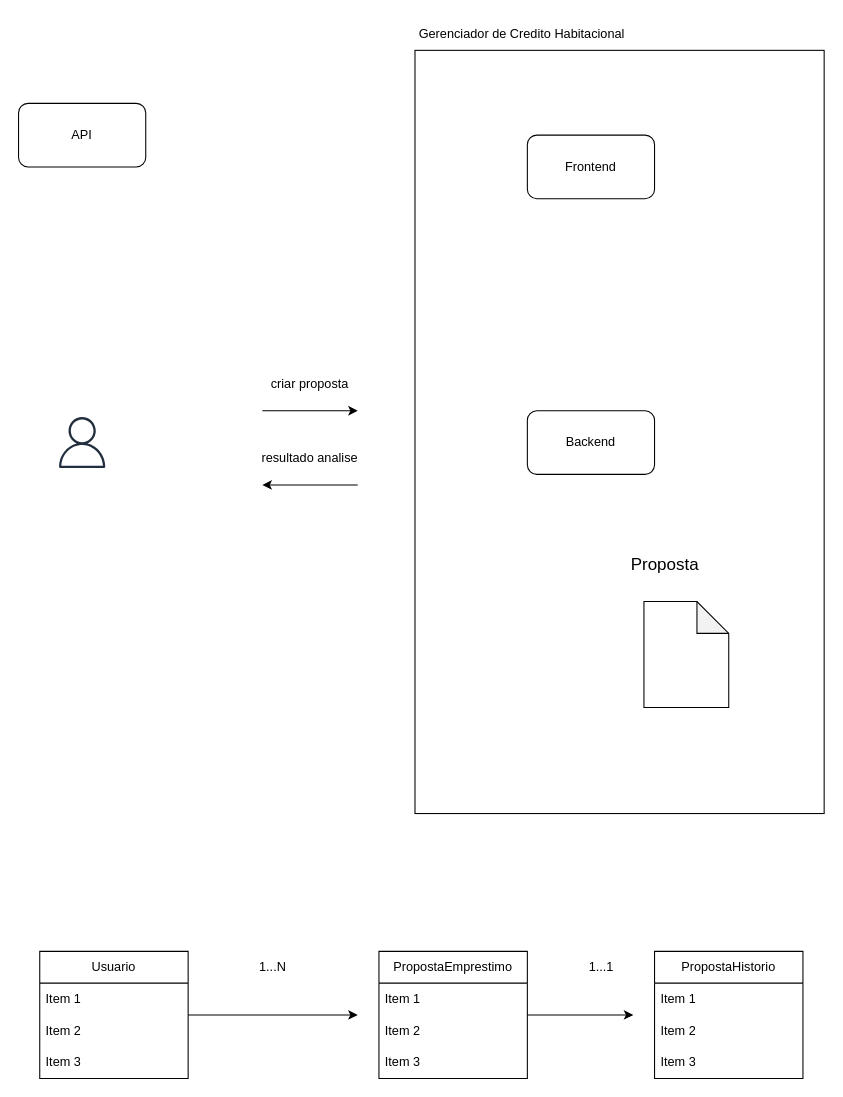
This 843x1097 diagram has some shape labels left out. The shapes that lost their labels are listed below. From the top down, each one's centre as x and y in pixels, then its label:
the point at 81,442: User
the point at 686,654: Status: EM ANALISE
